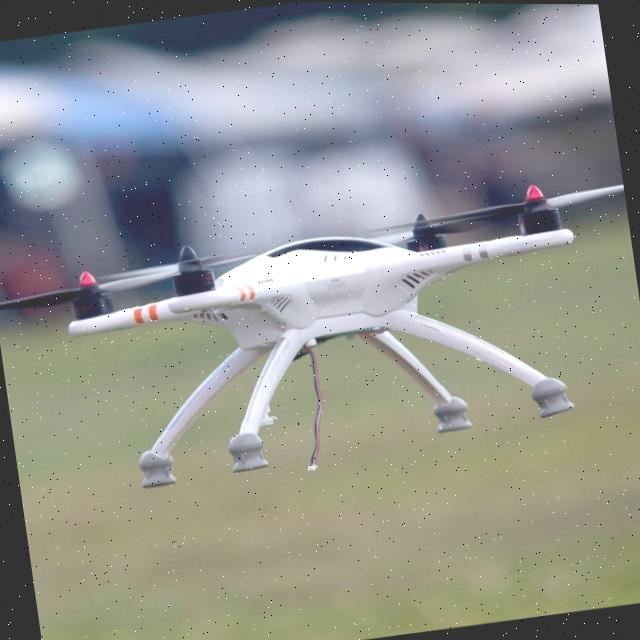drone: (0, 149, 640, 524)
